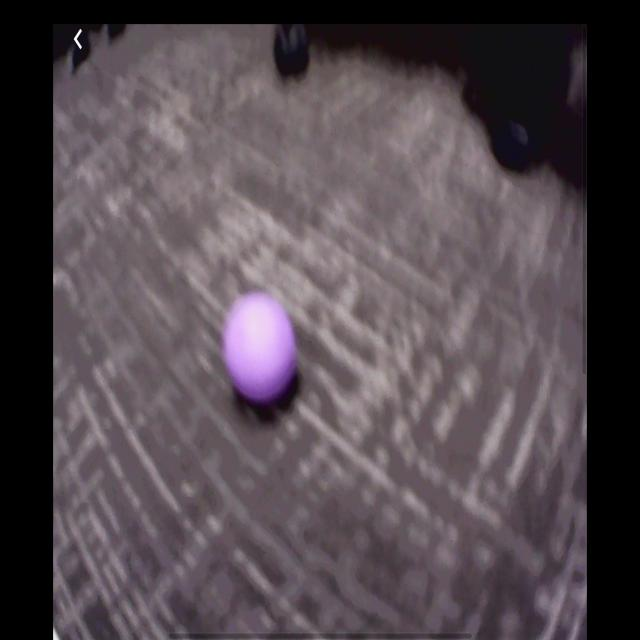ball: (222, 290, 299, 408)
